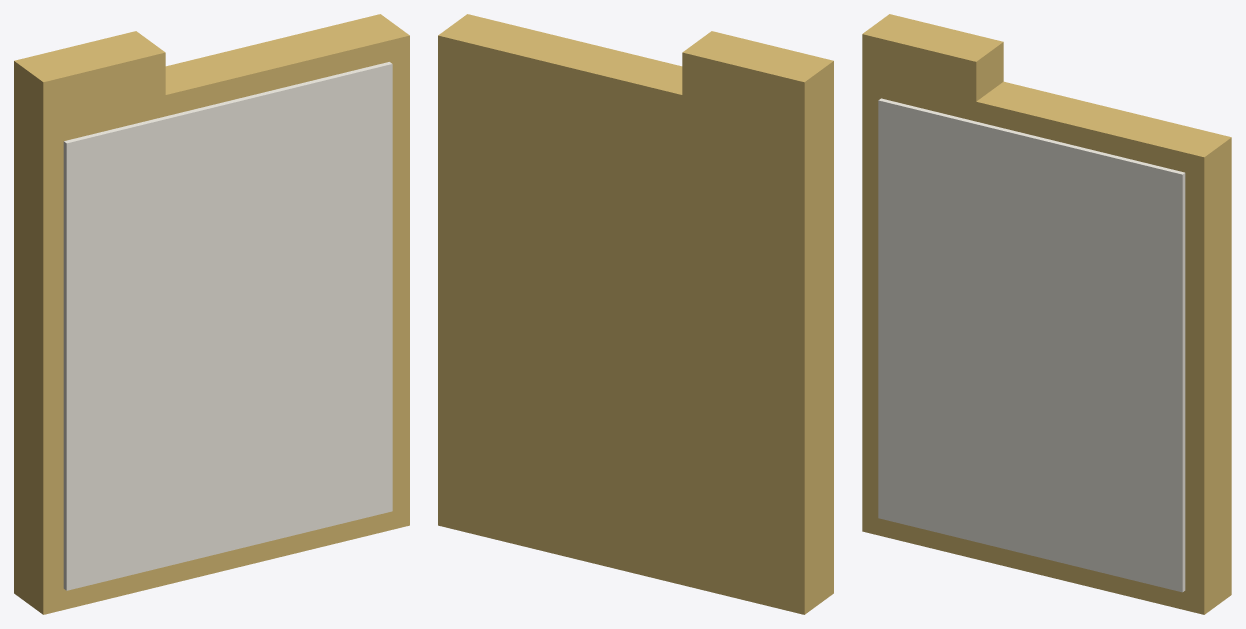
Rendered from folder.glb.
3 renders of one model, left to right at view 1: azimuth 30°, elevation 25°; view 2: azimuth 150°, elevation 25°; view 3: azimuth 330°, elevation 25°, orthographic. The views are drawn at different scales.
Visible parts, largest first — view 1: folder; view 2: folder; view 3: folder.
Boxes of the visible parts, x1,y1,x2,y2 form: folder: (14,14,409,614); folder: (438,14,833,614); folder: (862,14,1231,614).
Size of the model in its own units: 0.18 by 0.25 by 0.0275.
Materials: 1 (1 with a texture image).
